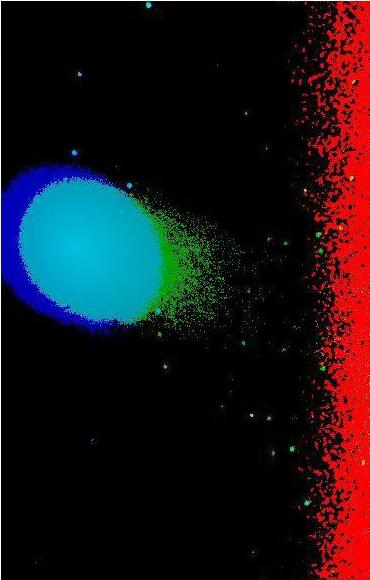star: (234, 400, 264, 430)
